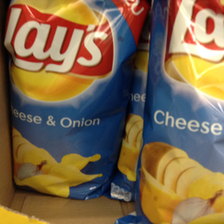chips: (10, 1, 149, 199), (134, 1, 224, 222)
